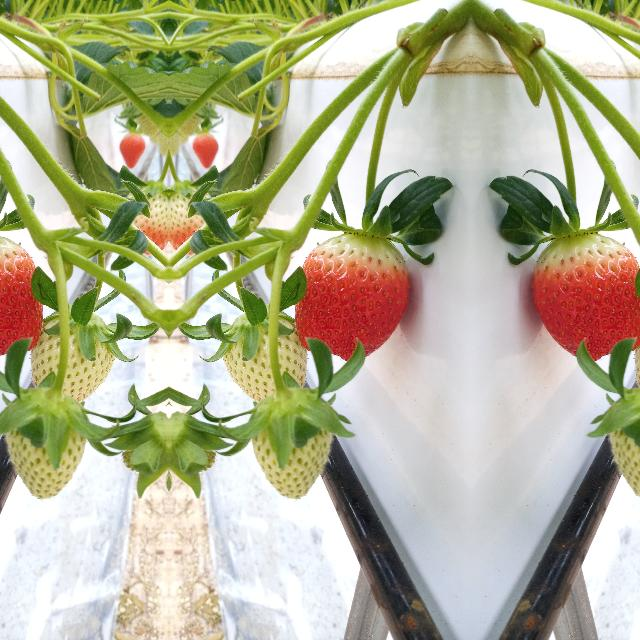Health_100: (185, 132, 239, 164), (97, 132, 151, 164)
Health_25: (240, 398, 336, 498), (0, 398, 96, 498), (219, 299, 305, 407), (31, 299, 117, 407), (605, 398, 640, 497)
Health_50: (168, 182, 216, 242), (120, 182, 168, 242)
Health_75: (294, 233, 410, 361), (531, 233, 640, 361), (0, 233, 42, 361)
